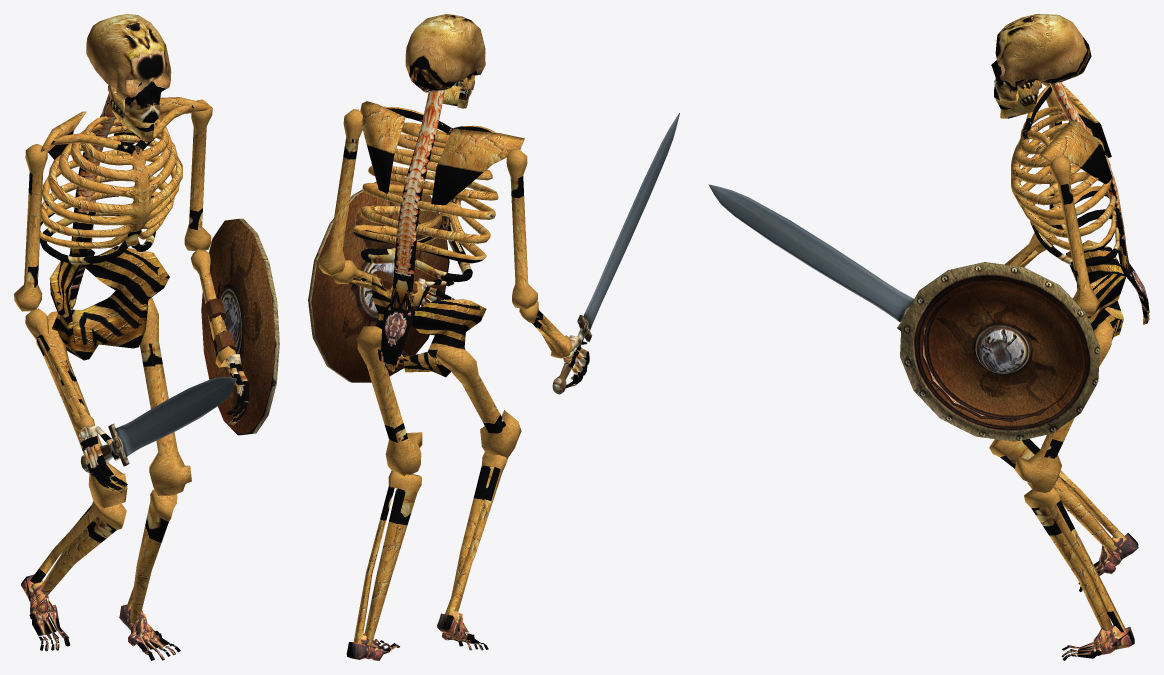
The model's file is Skeleton_000011.obj.
3 views of the same model, side by side, from view 1: azimuth 30°, elevation 25°; view 2: azimuth 150°, elevation 25°; view 3: azimuth 270°, elevation 25° (orthographic). The views are drawn at different scales.
Parts seen in each view (by area): view 1: Costillar, Shield_Shield.001, Coxis, Skull, Tibia, Femur, Humero, Sword, Radio, Feet, Hands, Omoplato (+1 smaller); view 2: Costillar, Shield_Shield.001, Tibia, Femur, Omoplato, Humero, Skull, Coxis, Sword, Radio, Feet, Hands (+1 smaller); view 3: Shield_Shield.001, Costillar, Tibia, Sword, Skull, Omoplato, Humero, Femur, Coxis, Feet, Mandibula.
Boxes of the visible parts, box(x1,y1,x2,y2) form: Costillar: box(40, 89, 193, 309); Shield_Shield.001: box(201, 218, 279, 435); Coxis: box(49, 246, 169, 360); Skull: box(86, 14, 171, 122); Tibia: box(30, 489, 177, 623); Femur: box(36, 298, 191, 509); Humero: box(14, 99, 212, 311); Sword: box(80, 377, 236, 472); Radio: box(25, 249, 235, 431); Feet: box(21, 574, 180, 660); Hands: box(79, 354, 249, 493); Omoplato: box(40, 97, 210, 159); Costillar: box(353, 90, 498, 371); Shield_Shield.001: box(308, 181, 449, 382); Tibia: box(353, 452, 507, 645); Femur: box(357, 326, 521, 475); Omoplato: box(360, 101, 524, 205); Humero: box(318, 109, 537, 309); Skull: box(405, 14, 485, 92); Coxis: box(371, 276, 486, 377); Sword: box(552, 113, 679, 394); Radio: box(333, 260, 571, 358); Feet: box(346, 611, 488, 660); Hands: box(411, 278, 589, 388); Shield_Shield.001: box(900, 262, 1099, 441); Costillar: box(1011, 82, 1149, 324); Tibia: box(989, 438, 1125, 632); Sword: box(708, 184, 913, 330); Skull: box(991, 14, 1091, 100); Omoplato: box(1040, 81, 1112, 184); Humero: box(1042, 90, 1099, 316); Femur: box(1015, 321, 1113, 492); Coxis: box(1066, 240, 1125, 339); Feet: box(1061, 533, 1138, 660); Mandibula: box(995, 80, 1041, 118).
Size of the model in its own units: 2.93 by 8.57 by 5.54.
5 materials, 5 textured.
